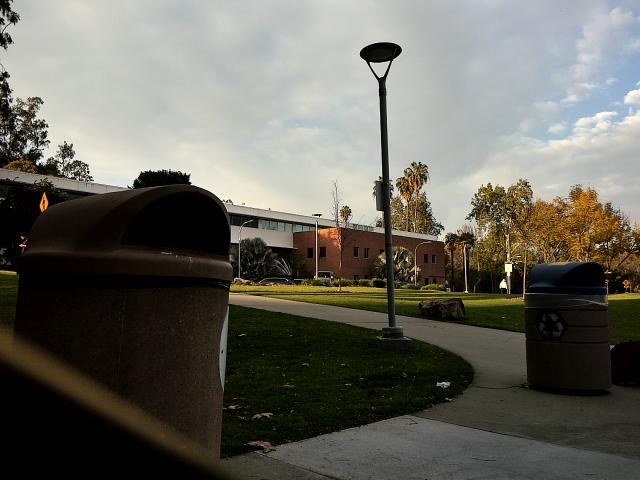trashcan: (14, 176, 285, 480), (511, 249, 621, 401)
